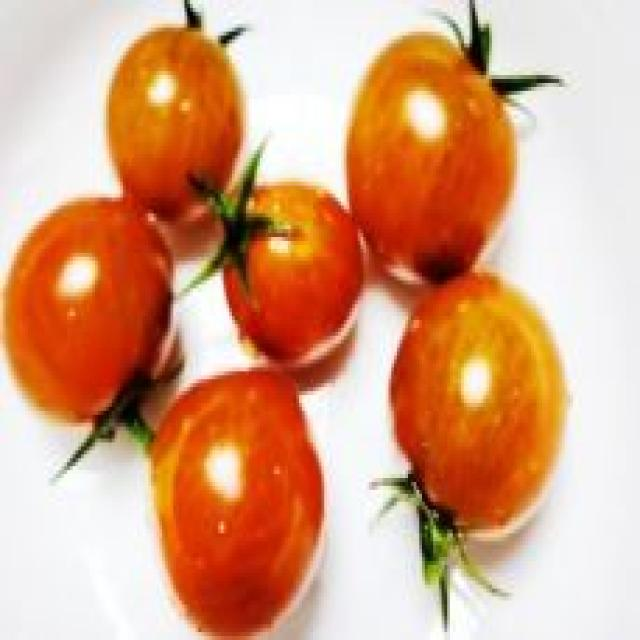level 5: (388, 259, 576, 578), (352, 24, 516, 336), (208, 157, 375, 366), (94, 21, 250, 203)
level 6: (134, 367, 330, 640), (0, 203, 199, 455)
